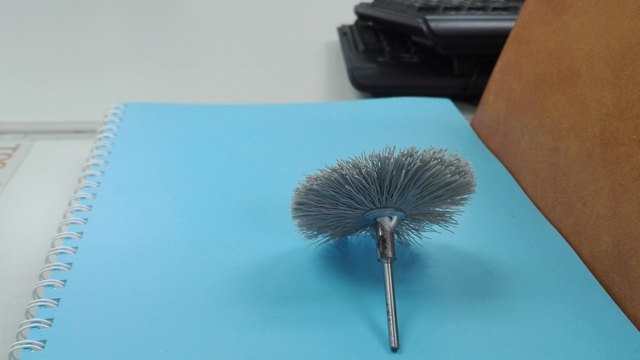TOOL: (263, 121, 482, 331), (312, 116, 507, 307), (288, 131, 451, 298)
